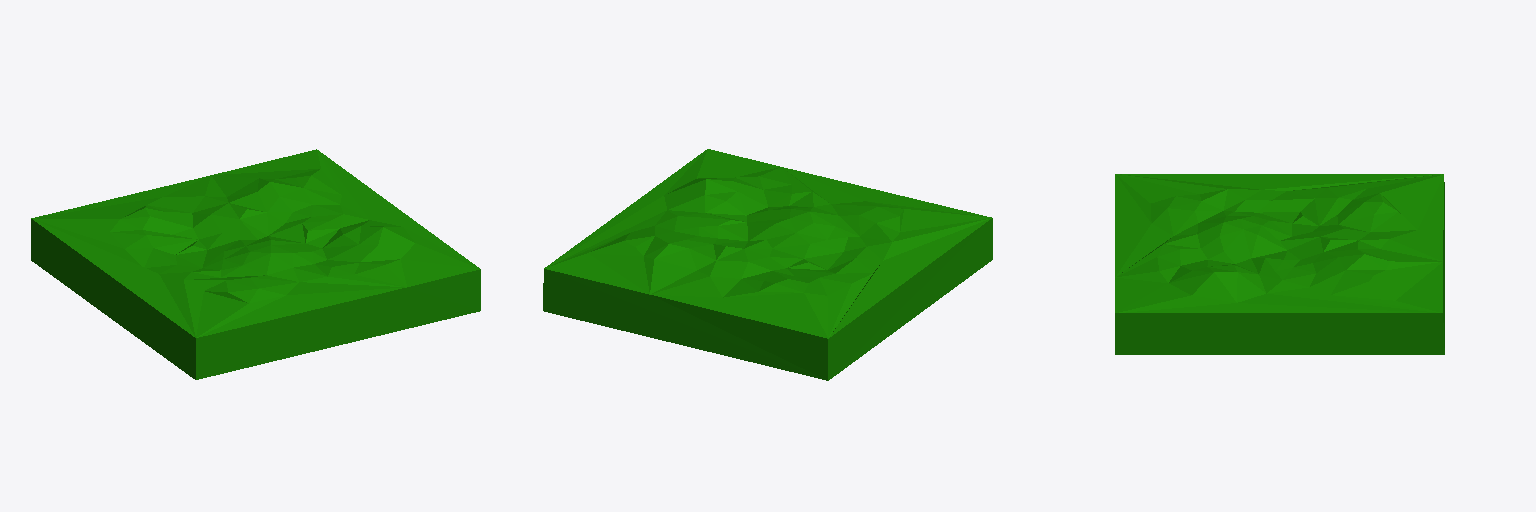
The model's file is bedeng_rumput.obj.
3 views of the same model, side by side, from view 1: azimuth 30°, elevation 25°; view 2: azimuth 150°, elevation 25°; view 3: azimuth 270°, elevation 25° (orthographic).
Visible parts, largest first — view 1: PP_Meadow_07.002_Scene.002; view 2: PP_Meadow_07.002_Scene.002; view 3: PP_Meadow_07.002_Scene.002.
Part boxes in pixels (bbox=[...]): PP_Meadow_07.002_Scene.002: bbox=[31, 149, 480, 379]; PP_Meadow_07.002_Scene.002: bbox=[543, 149, 992, 380]; PP_Meadow_07.002_Scene.002: bbox=[1115, 174, 1444, 354].
Size of the model in its own units: 0.9999 by 0.1996 by 1.